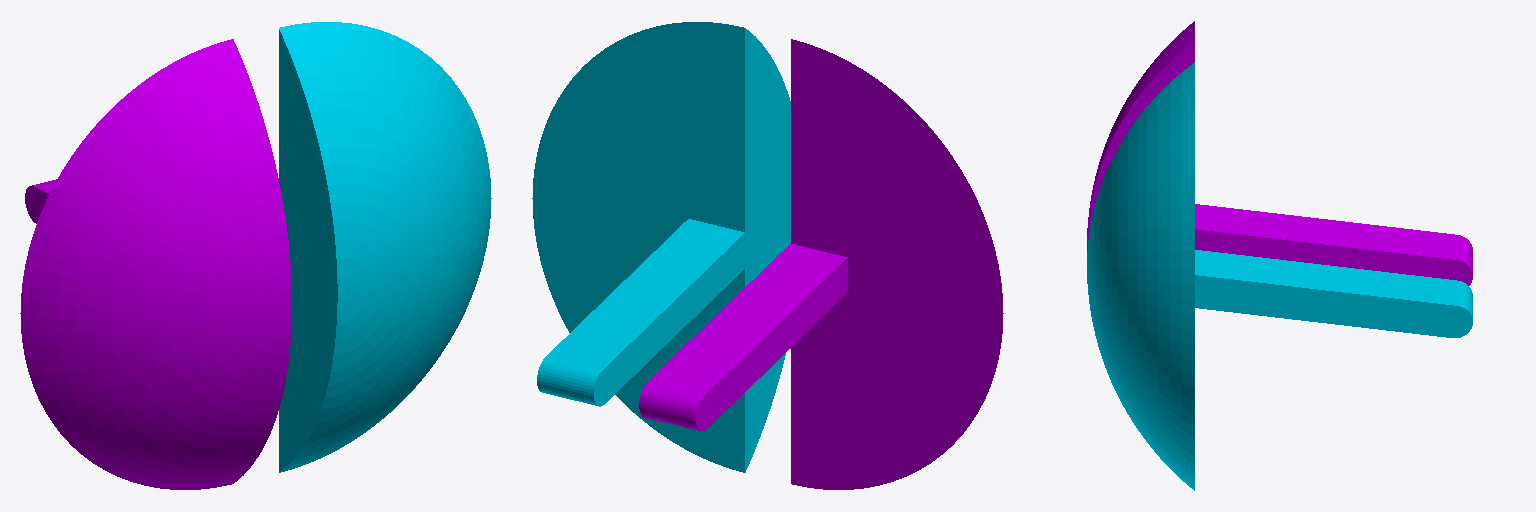
The robot description file, URDF, robot "mugatu_urdf":
<?xml version="1.0" encoding="utf-8"?>
<!-- This URDF was automatically created by SolidWorks to URDF Exporter! Originally created by [author] ([email redacted]) 
     Commit Version: 1.6.0-4-g7f85cfe  Build Version: 1.6.7995.38578
     For more information, please see http://wiki.ros.org/sw_urdf_exporter -->
<robot
  name="mugatu_urdf">
  <link
    name="base_link">
    <inertial>
      <origin
        xyz="-0.040241 -0.11526 0.01316"
        rpy="0 0 0" />
      <mass
        value="0.37704" />
      <inertia
        ixx="0.00079734"
        ixy="-3.35E-05"
        ixz="5.6203E-06"
        iyy="0.00068444"
        iyz="2.6321E-05"
        izz="0.00045785" />
    </inertial>
    <visual>
      <origin
        xyz="0 0 0"
        rpy="0 0 0" />
      <geometry>
        <mesh
          filename="base_link.obj" />
      </geometry>
      <material
        name="baselink">
        <color
          rgba="0.79216 0 0.93333 1" />
      </material>
    </visual>
    <collision>
      <origin
        xyz="0 0 0"
        rpy="0 0 0" />
      <geometry>
        <mesh
          filename="base_link.obj" />
      </geometry>
    </collision>
  </link>
  <link
    name="Empty_Link">
    <inertial>
      <origin
        xyz="0.040241 -0.11526 0.01316"
        rpy="0 0 0" />
      <mass
        value="0.37704" />
      <inertia
        ixx="0.00079734"
        ixy="3.35E-05"
        ixz="-5.6203E-06"
        iyy="0.00068444"
        iyz="2.6321E-05"
        izz="0.00045785" />
    </inertial>
    <visual>
      <origin
        xyz="0 0 0"
        rpy="0 0 0" />
      <geometry>
        <mesh
          filename="Empty_Link.obj" />
      </geometry>
      <material
        name="emptylink">
        <color
          rgba="0 0.81961 0.93333 1" />
      </material>
    </visual>
    <collision>
      <origin
        xyz="0 0 0"
        rpy="0 0 0" />
      <geometry>
        <mesh
          filename="Empty_Link.obj" />
      </geometry>
    </collision>
  </link>
  <joint
    name="hip_joint"
    type="revolute">
    <origin
      xyz="0 0 0"
      rpy="0 0 0" />
    <parent
      link="base_link" />
    <child
      link="Empty_Link" />
    <axis
      xyz="-1 0 0" />
    <limit
      lower="-1.5"
      upper="1.5"
      effort="100"
      velocity="31.4" />
  </joint>
</robot>

--- What the picture shows (computed from the rendered views, not written in the file) ---
The picture shows the robot from 3 angles, left to right: view 1: azimuth 30°, elevation 25°; view 2: azimuth 150°, elevation 25°; view 3: azimuth 270°, elevation 25°; orthographic projection.
Model mugatu_urdf with 2 links and 1 joints (1 revolute), rooted at base_link, posed all joints at 0.
Visible links, largest first — view 1: base_link, Empty_Link; view 2: base_link, Empty_Link; view 3: Empty_Link, base_link.
Boxes of the visible links, <box> form: base_link: <box>20,39,291,489</box>; Empty_Link: <box>279,22,491,472</box>; base_link: <box>639,39,1003,489</box>; Empty_Link: <box>532,22,790,472</box>; Empty_Link: <box>1087,62,1472,490</box>; base_link: <box>1087,21,1472,285</box>.
Bounding box of the posed robot: 0.2073 × 0.1605 × 0.1873 m (x, y, z).
2 mesh visuals loaded from 2 distinct referenced files (2 OBJ).
